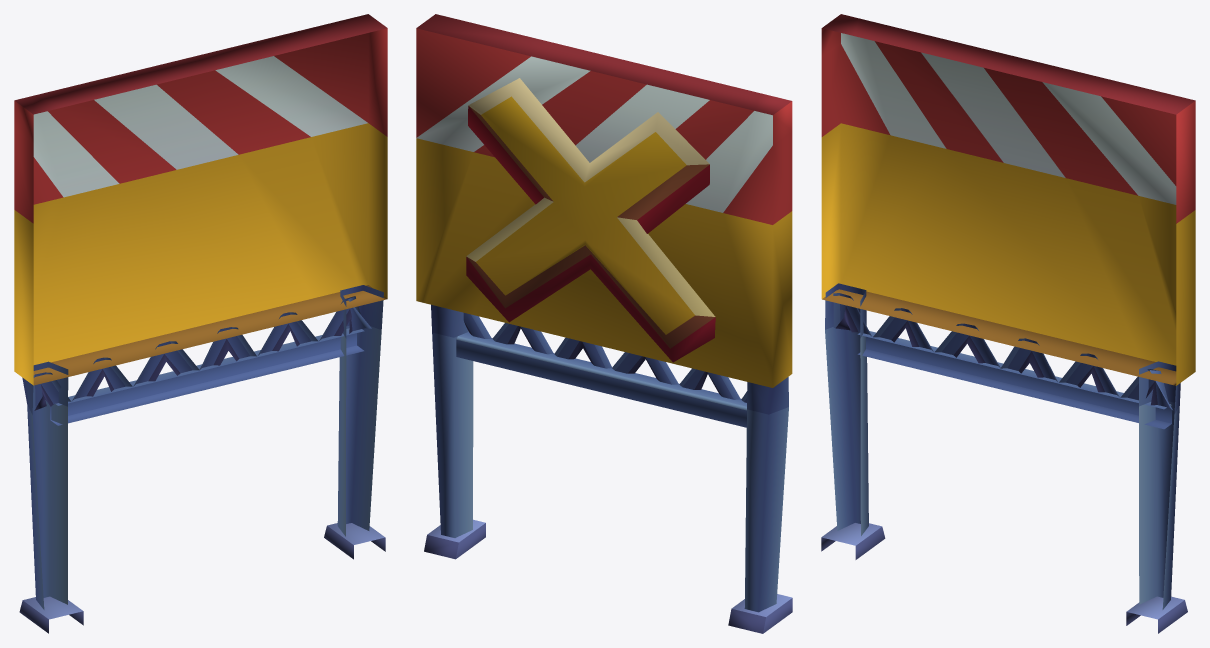
The model's file is BarrierTut.fbx.
3 renders of one model, left to right at view 1: azimuth 30°, elevation 25°; view 2: azimuth 150°, elevation 25°; view 3: azimuth 330°, elevation 25°, orthographic.
Parts seen in each view (by area): view 1: hurdels4; view 2: hurdels4; view 3: hurdels4.
Part boxes in pixels (box(x1,y1,x2,y2)): hurdels4: box(14, 14, 387, 633); hurdels4: box(416, 14, 792, 633); hurdels4: box(821, 14, 1195, 633).
Bounding box in the file's own units: 78.01 × 108 × 14.48.
